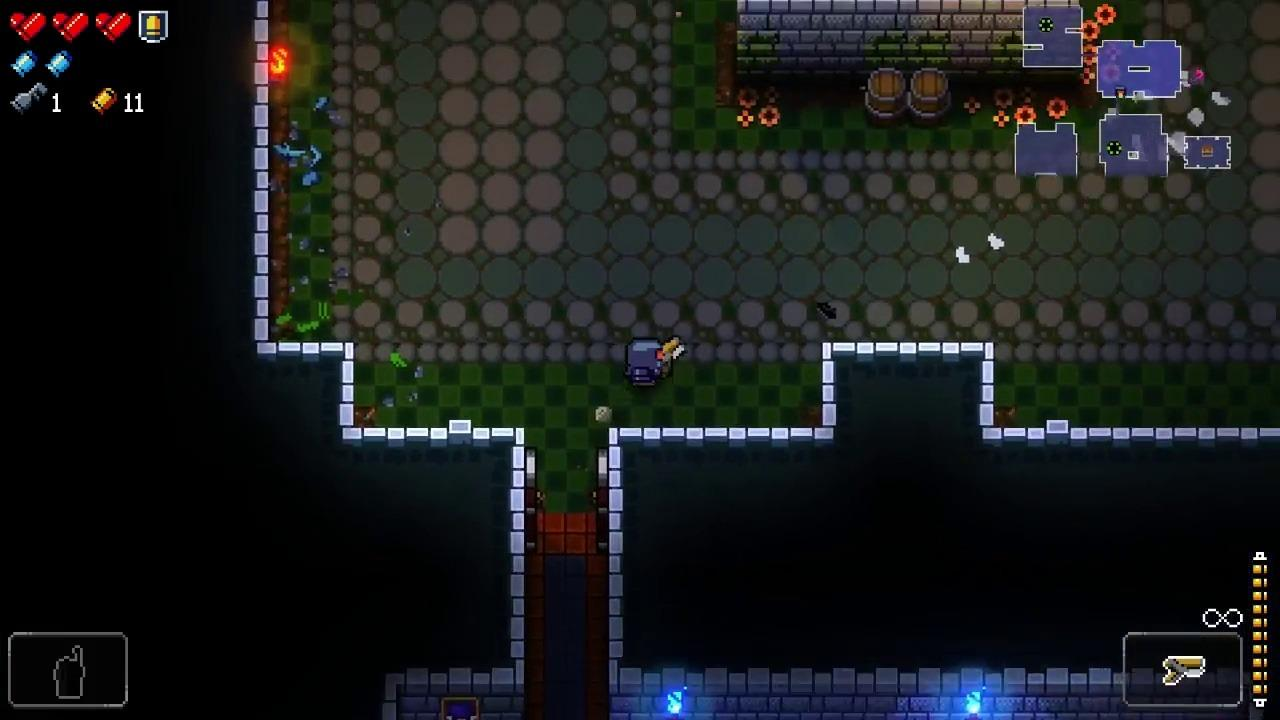player: (625, 338, 664, 389)
unlocked_door: (597, 448, 609, 550), (526, 448, 536, 550)
wall: (738, 0, 1085, 102)
